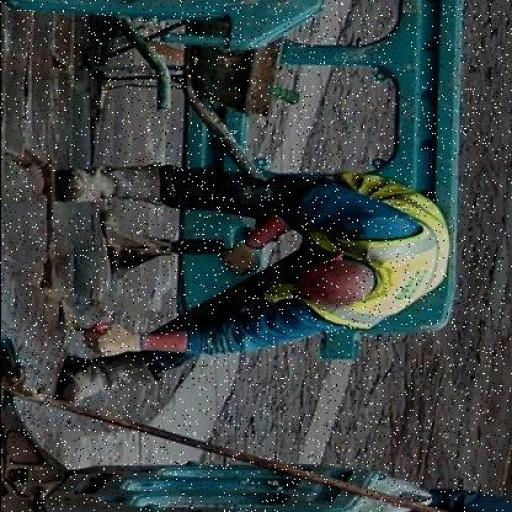person: (27, 136, 451, 407)
safety_shoe: (58, 160, 171, 208), (59, 354, 147, 409)
